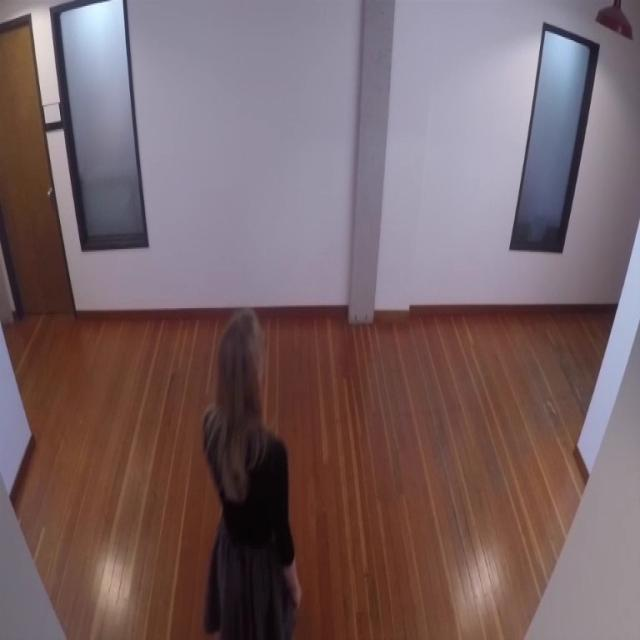Stupid: (202, 306, 302, 638)
